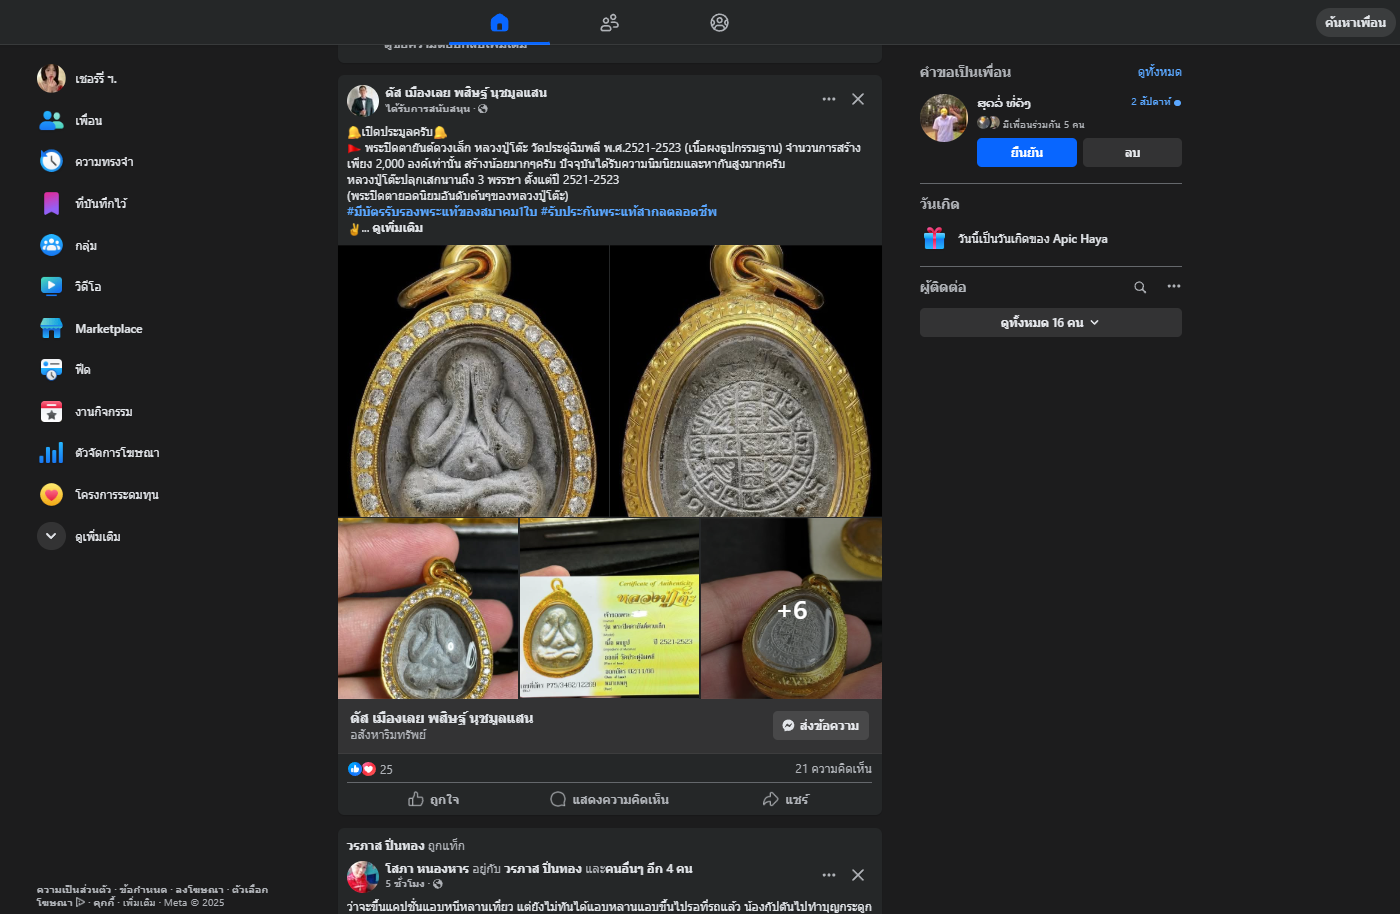topic: (337, 70, 885, 818), (335, 829, 884, 914)
